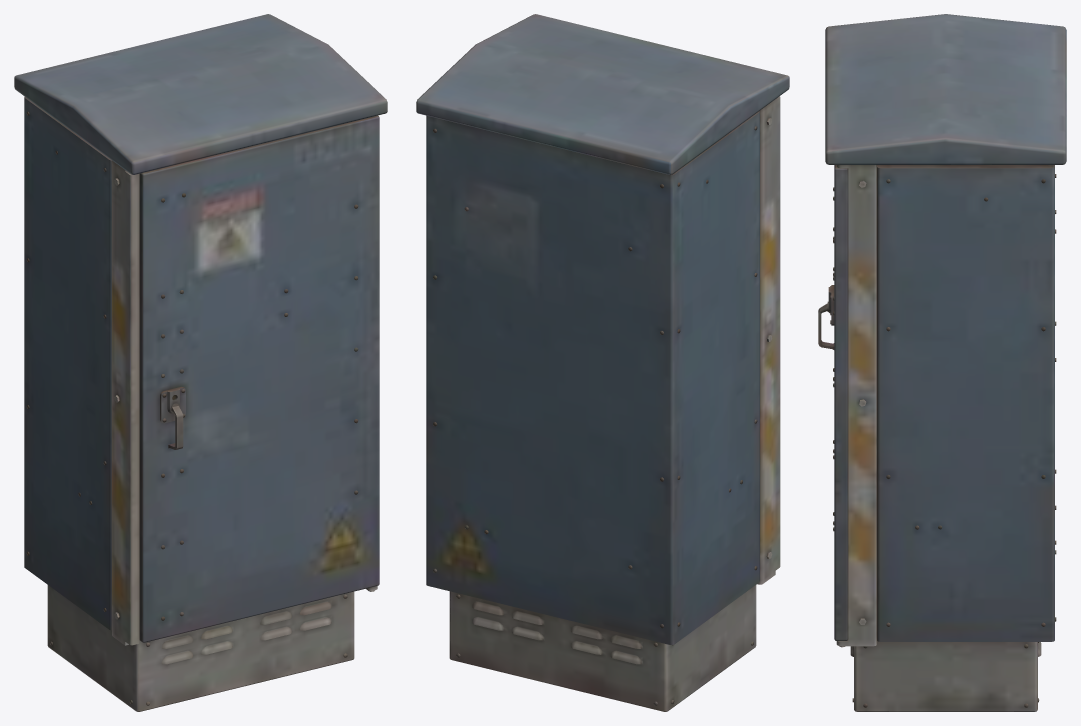
Rendered from utility_box.glb.
3 renders of one model, left to right at view 1: azimuth 30°, elevation 25°; view 2: azimuth 150°, elevation 25°; view 3: azimuth 270°, elevation 25°, orthographic.
Parts seen in each view (by area): view 1: utility_box_01_box; view 2: utility_box_01_box; view 3: utility_box_01_box.
Boxes of the visible parts, x1=… form: utility_box_01_box: x1=14, y1=14, x2=387, y2=711; utility_box_01_box: x1=416, y1=14, x2=789, y2=711; utility_box_01_box: x1=818, y1=14, x2=1066, y2=711.
Size of the model in its own units: 0.52 by 1.12 by 0.432.
Materials: 1 (1 with a texture image).
